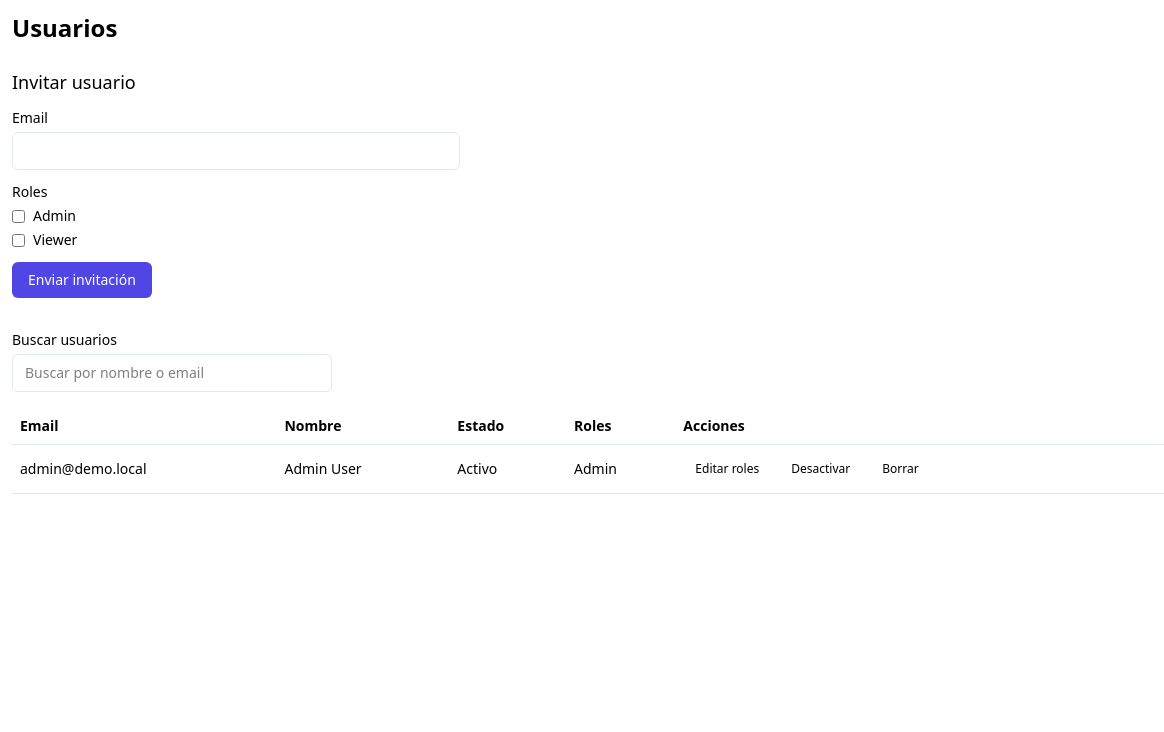
Test case: UsersScreen › invites a user by email with a role
Expected: the text "admin@demo.local" is shown, x1=12 y1=445 x2=276 y2=494
In the field labelled "Email": point(236, 151) x1=12 y1=132 x2=460 y2=170, type "new@demo.local"
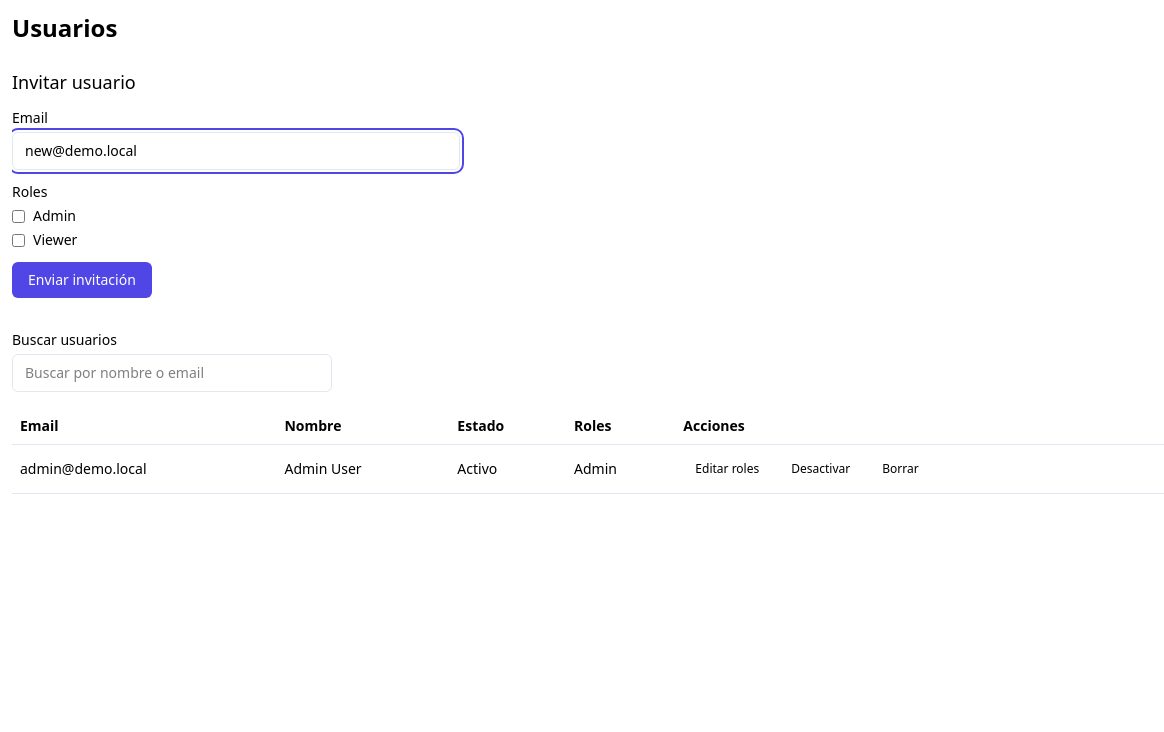
Click the checkbox labelled "Viewer": point(18, 240) x1=12 y1=234 x2=25 y2=246
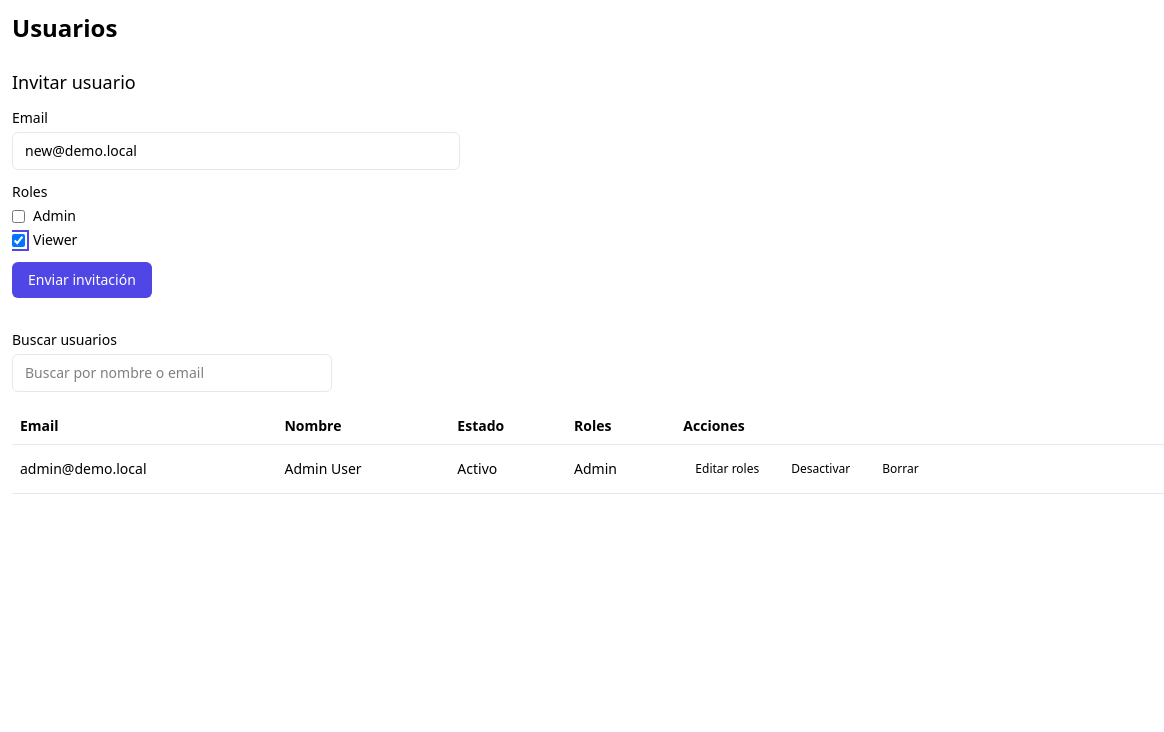
Click the button "Enviar invitación": point(82, 280) x1=12 y1=262 x2=152 y2=298
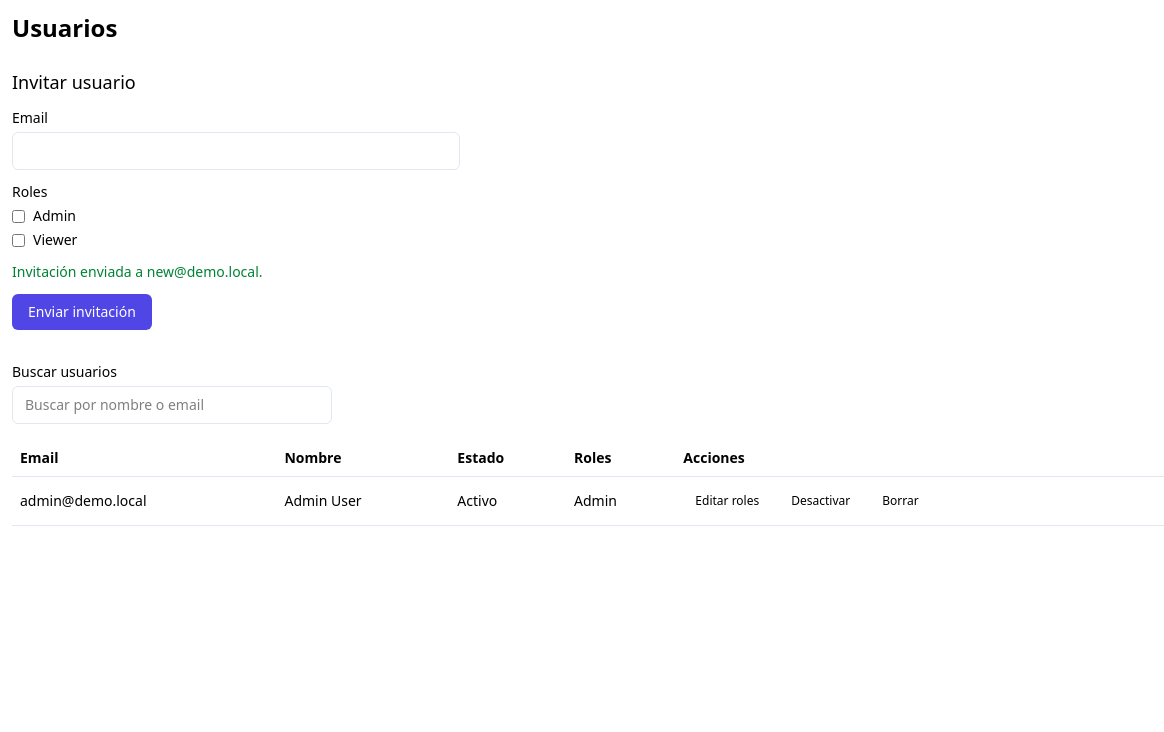
Expected: the text "Invitación enviada a new@demo.local." is shown, x1=12 y1=262 x2=262 y2=281
